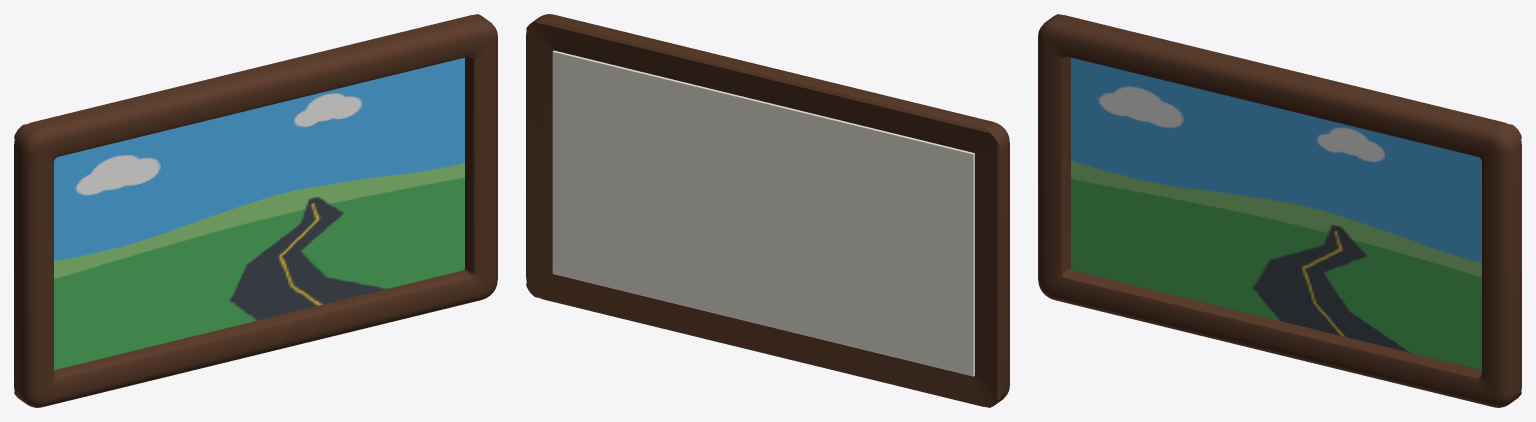
File: quadro_estrada_campo.glb
3 renders of one model, left to right at view 1: azimuth 30°, elevation 25°; view 2: azimuth 150°, elevation 25°; view 3: azimuth 330°, elevation 25°, orthographic.
Visible parts, largest first — view 1: quadro_estrada_campo; view 2: quadro_estrada_campo; view 3: quadro_estrada_campo.
Part boxes in pixels (<box>): quadro_estrada_campo: <box>14,14,497,407</box>; quadro_estrada_campo: <box>526,14,1009,407</box>; quadro_estrada_campo: <box>1038,14,1521,407</box>.
Size of the model in its own units: 0.82 by 0.46 by 0.045.
2 materials, 2 textured.
